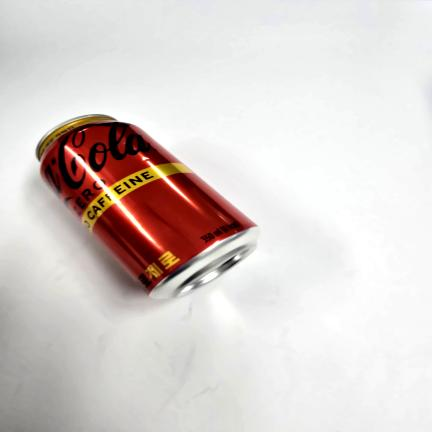can_coke_decaf: (36, 114, 259, 299)
